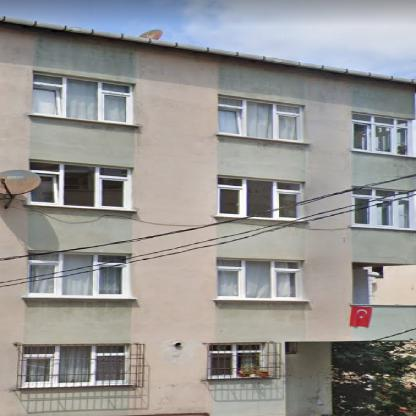window: (34, 73, 134, 123), (32, 161, 129, 208), (22, 344, 131, 385), (29, 252, 127, 296), (218, 96, 304, 142), (216, 176, 302, 219), (217, 259, 302, 299), (352, 114, 414, 155), (353, 188, 410, 227), (210, 343, 260, 376)
